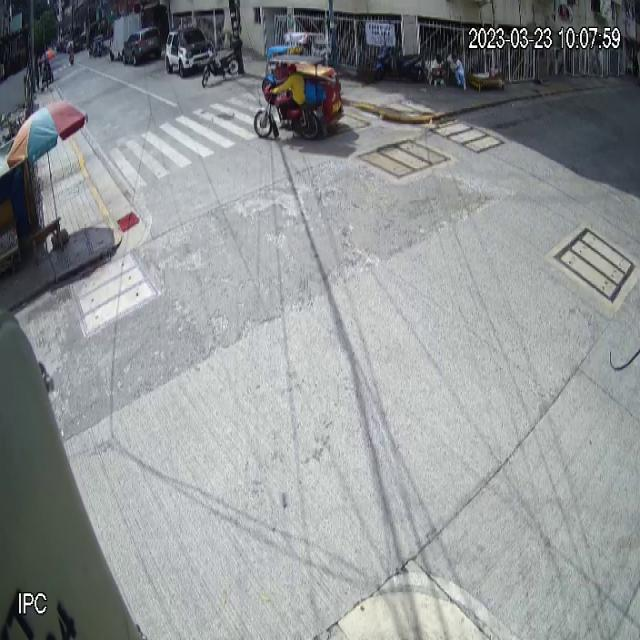Tricycle: (254, 54, 345, 140)
